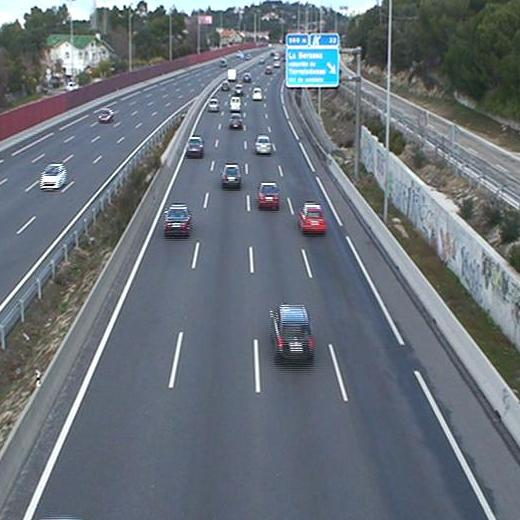car: (272, 306, 311, 361), (163, 203, 191, 237), (301, 204, 326, 233), (258, 182, 280, 207), (221, 164, 241, 189), (184, 137, 205, 158), (255, 136, 271, 153), (229, 114, 242, 129), (208, 98, 220, 113), (252, 86, 262, 100), (233, 85, 242, 100), (242, 71, 252, 84), (264, 65, 274, 75)
van: (229, 97, 240, 111), (227, 68, 237, 82)
